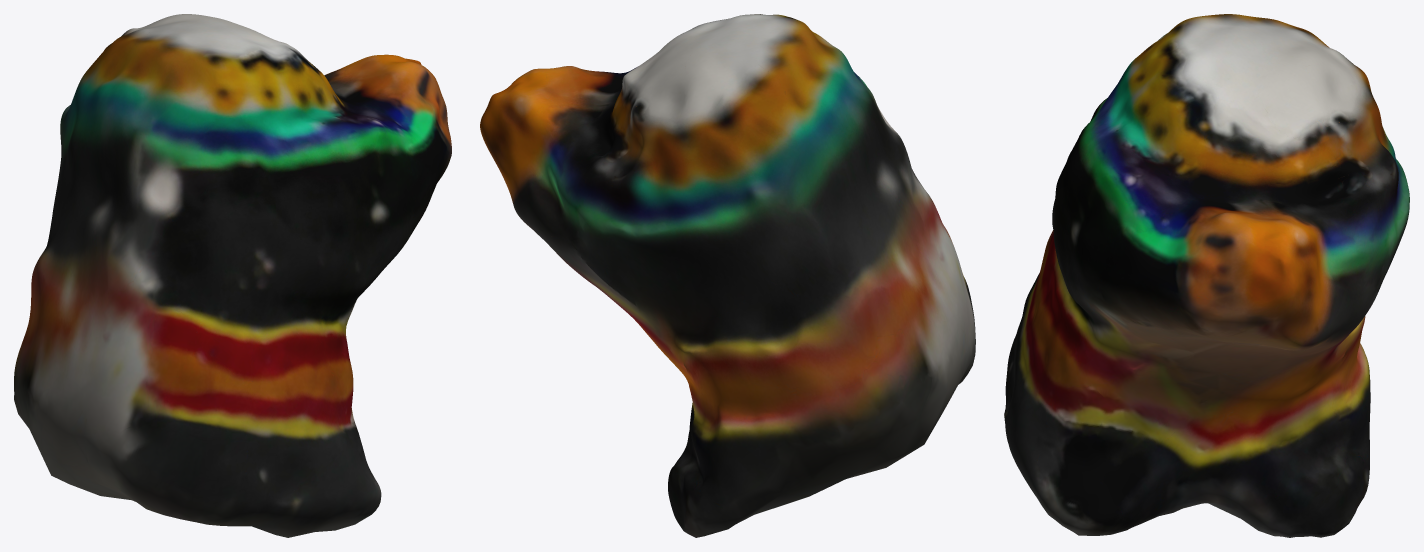
The picture shows the model from 3 angles, left to right: view 1: azimuth 30°, elevation 25°; view 2: azimuth 150°, elevation 25°; view 3: azimuth 270°, elevation 25°; orthographic projection. The views are drawn at different scales.
Size of the model in its own units: 0.5185 by 0.5549 by 0.4123.
Materials: 1 (1 with a texture image).
